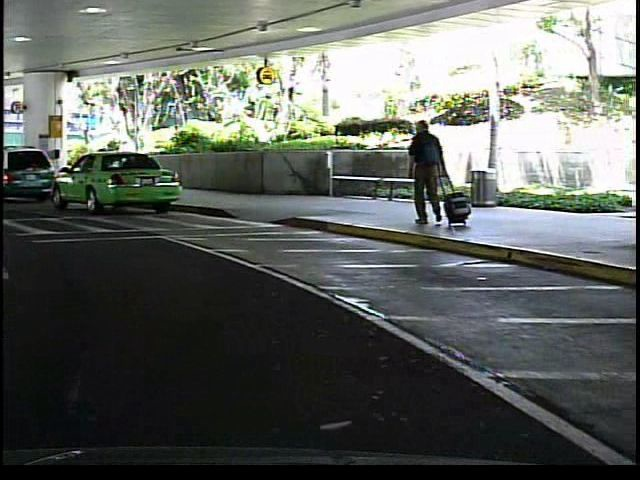person: (399, 112, 449, 236)
